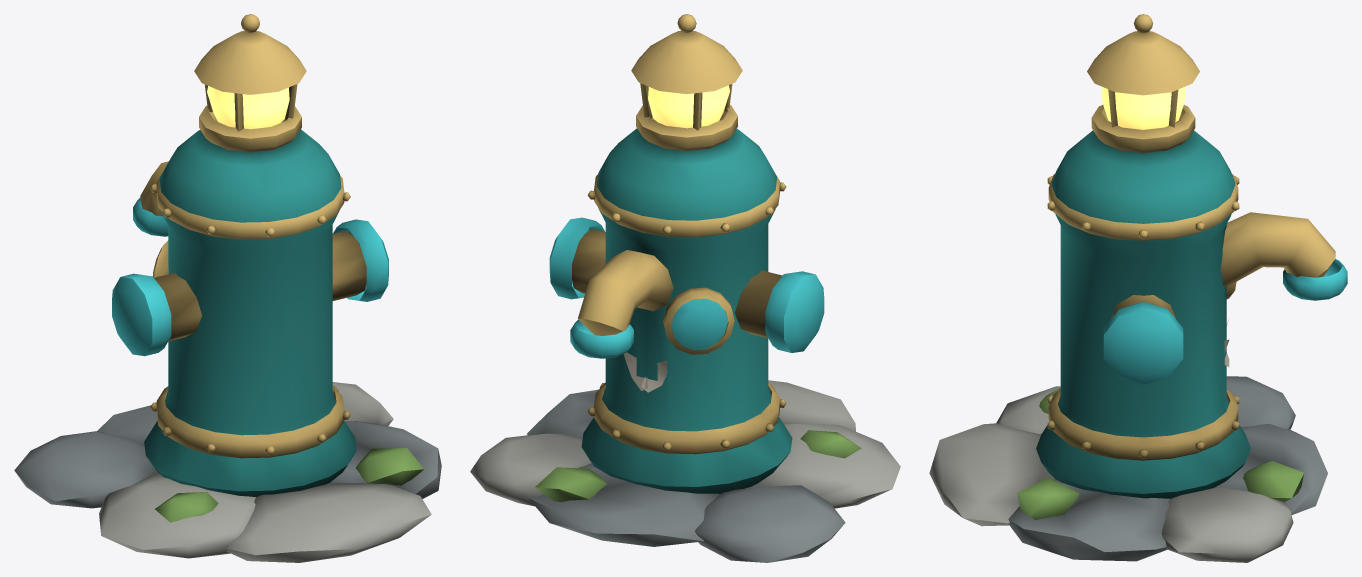
File: EDV2_Hydrant.fbx
The picture shows the model from 3 angles, left to right: view 1: azimuth 30°, elevation 25°; view 2: azimuth 150°, elevation 25°; view 3: azimuth 270°, elevation 25°; orthographic projection.
Parts seen in each view (by area): view 1: Body.004, Base.002, Hardware.006, Moss.005, LanternGlow.001, Spout.001; view 2: Body.004, Base.002, Hardware.006, Spout.001, Moss.005, LanternGlow.001, Gauge.001; view 3: Body.004, Base.002, Hardware.006, Spout.001, Moss.005, LanternGlow.001.
Boxes of the visible parts, x1=… form: Body.004: x1=144, y1=129, x2=356, y2=496; Base.002: x1=14, y1=382, x2=441, y2=562; Hardware.006: x1=112, y1=14, x2=388, y2=458; Moss.005: x1=155, y1=448, x2=424, y2=522; LanternGlow.001: x1=207, y1=86, x2=289, y2=129; Spout.001: x1=133, y1=161, x2=168, y2=236; Body.004: x1=581, y1=121, x2=792, y2=493; Base.002: x1=470, y1=380, x2=900, y2=562; Hardware.006: x1=549, y1=14, x2=824, y2=454; Spout.001: x1=570, y1=250, x2=673, y2=358; Moss.005: x1=535, y1=430, x2=861, y2=502; LanternGlow.001: x1=648, y1=85, x2=729, y2=128; Gauge.001: x1=671, y1=298, x2=727, y2=348; Body.004: x1=1036, y1=130, x2=1250, y2=498; Base.002: x1=929, y1=376, x2=1327, y2=562; Hardware.006: x1=1047, y1=14, x2=1239, y2=460; Spout.001: x1=1220, y1=212, x2=1347, y2=300; Moss.005: x1=1017, y1=388, x2=1303, y2=519; LanternGlow.001: x1=1101, y1=87, x2=1185, y2=129.
Size of the model in its own units: 0.2065 by 0.2714 by 0.2141.
